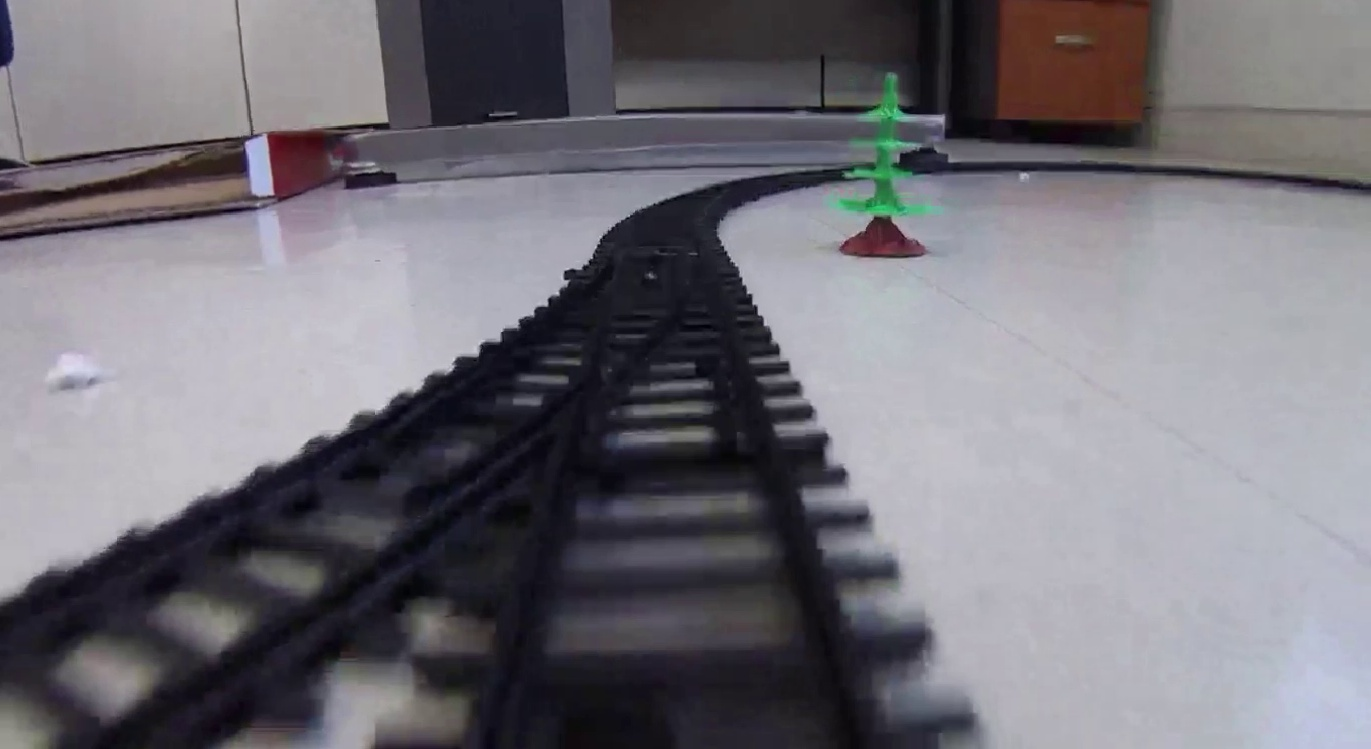tree: (826, 71, 937, 259)
